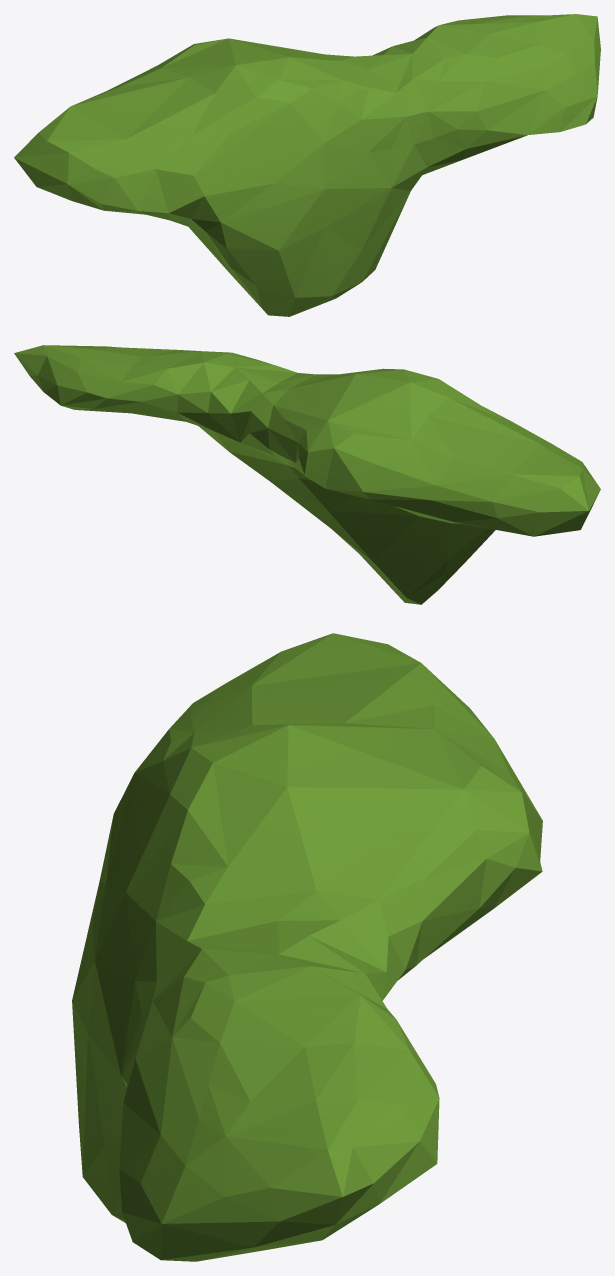
Rendered from Cavern_BushTopper-01.fbx.
3 renders of one model, top to bottom at view 1: azimuth 30°, elevation 25°; view 2: azimuth 150°, elevation 25°; view 3: azimuth 270°, elevation 25°, orthographic. The views are drawn at different scales.
Visible parts, largest first — view 1: Cavern_BushTopper-01; view 2: Cavern_BushTopper-01; view 3: Cavern_BushTopper-01.
Boxes of the visible parts, bbox=[...] form: Cavern_BushTopper-01: bbox=[14, 14, 600, 316]; Cavern_BushTopper-01: bbox=[14, 345, 600, 604]; Cavern_BushTopper-01: bbox=[72, 633, 542, 1261].
Bounding box in the file's own units: 636 × 255 × 226.
1 material, 1 textured.
